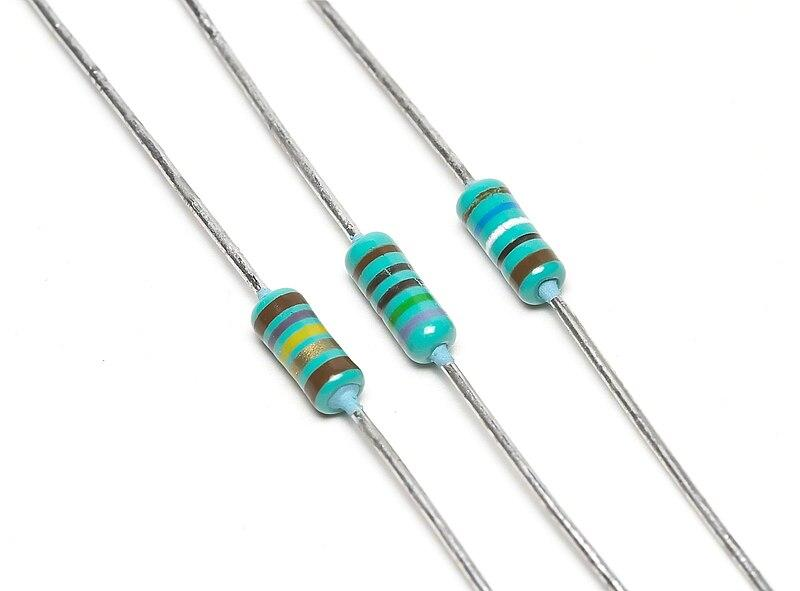resistor: (343, 228, 457, 369), (250, 285, 367, 420), (453, 175, 569, 311)
